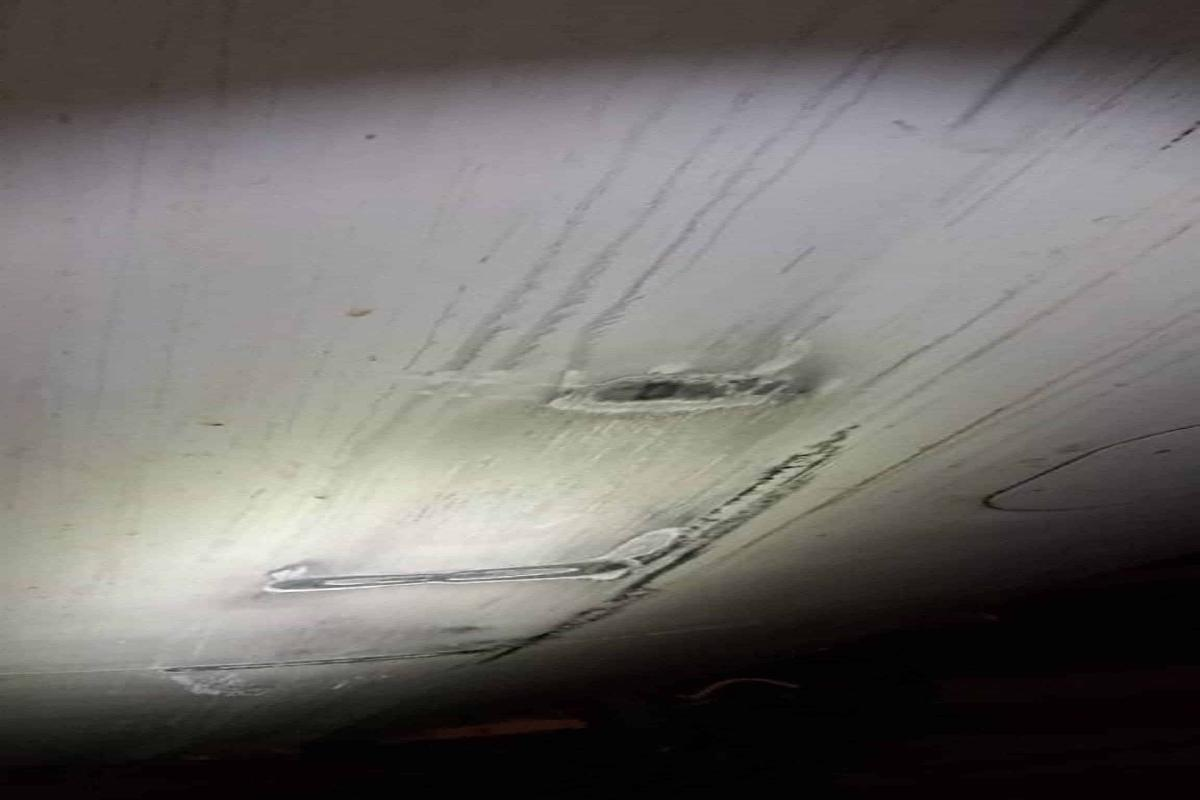Fuselage_damage: (154, 425, 858, 696), (154, 425, 858, 695), (263, 527, 702, 594), (547, 361, 814, 414), (261, 558, 640, 594), (166, 669, 301, 697), (329, 676, 360, 689)
